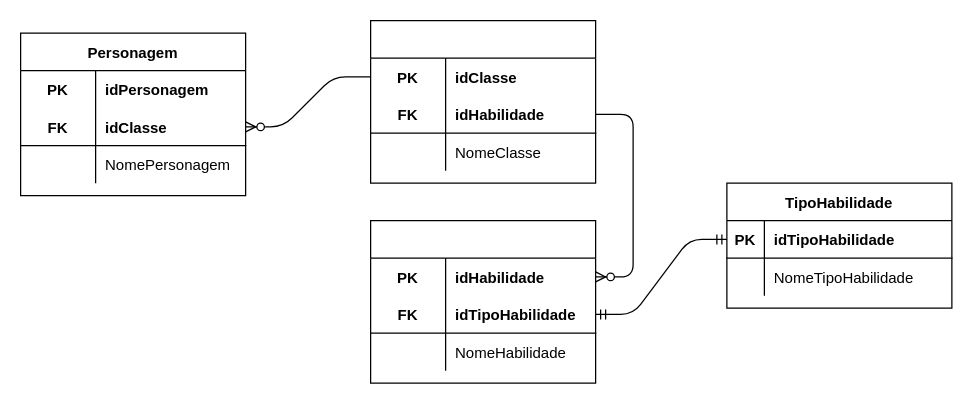
Image size: 973x404. Some labels were removed from this diagram. Here are the shapes that lost their labels. From the top down, the box of each, then its label:
(369, 19, 596, 183): Classes
(369, 219, 596, 383): Habilidades
